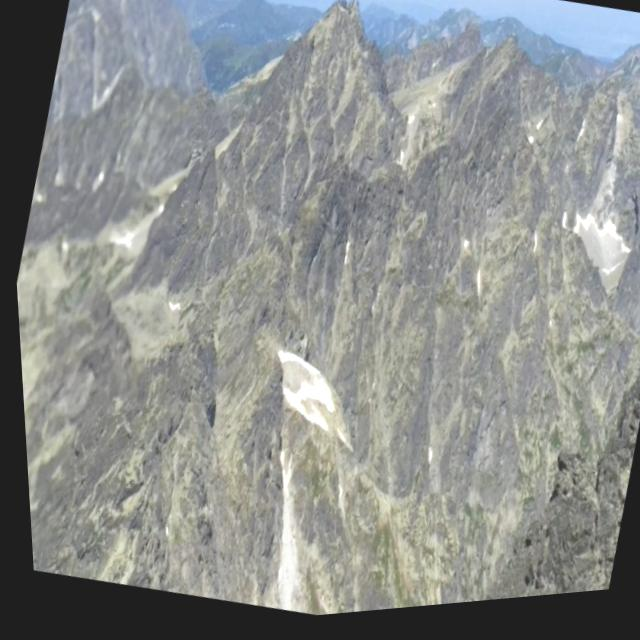Ganek: (198, 25, 476, 300)
Vysoka: (240, 0, 436, 103)
